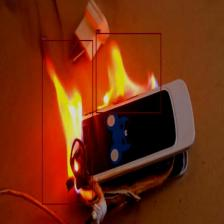fire: (42, 40, 93, 204), (96, 33, 161, 113)
